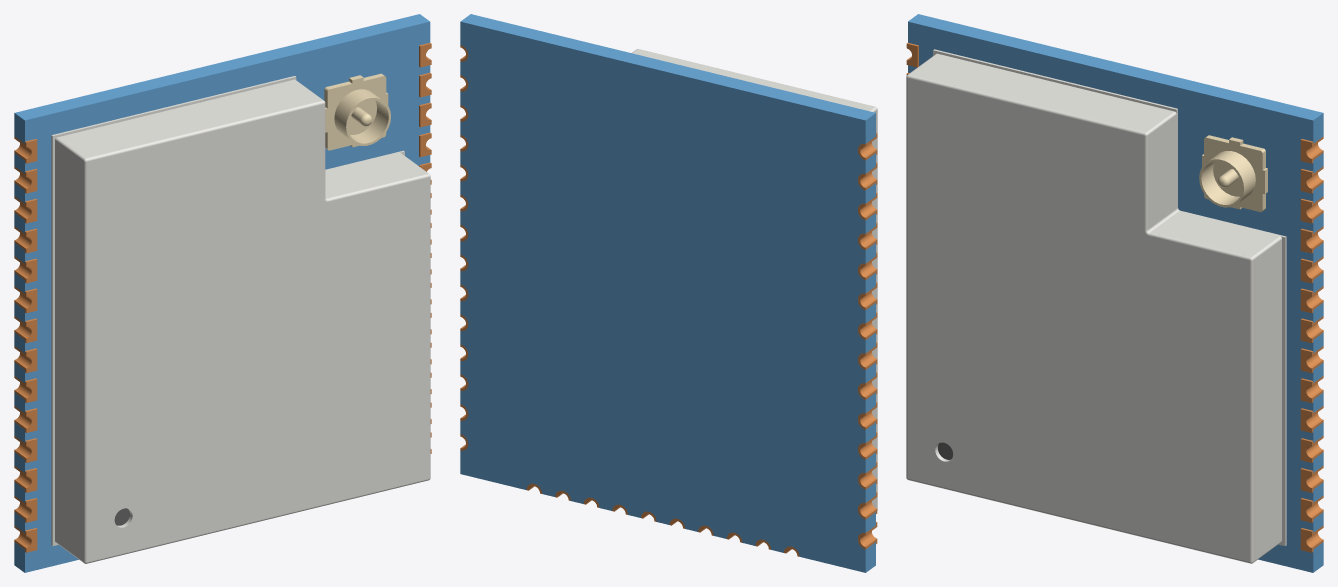
The model's file is ESP32-WROOM-32U.glb.
3 views of the same model, side by side, from view 1: azimuth 30°, elevation 25°; view 2: azimuth 150°, elevation 25°; view 3: azimuth 330°, elevation 25° (orthographic).
Parts seen in each view (by area): view 1: Shape_IndexedFaceSet.590, Shape_IndexedFaceSet.005, Shape_IndexedFaceSet.593, Shape_IndexedFaceSet.591, Shape_IndexedFaceSet.012, Shape_IndexedFaceSet.389, Shape_IndexedFaceSet.391, Shape_IndexedFaceSet.753, Shape_IndexedFaceSet.007, Shape_IndexedFaceSet.755, Shape_IndexedFaceSet.171, Shape_IndexedFaceSet.196 (+3 smaller); view 2: Shape_IndexedFaceSet.199, Shape_IndexedFaceSet.012, Shape_IndexedFaceSet.591, Shape_IndexedFaceSet.593; view 3: Shape_IndexedFaceSet.590, Shape_IndexedFaceSet.005, Shape_IndexedFaceSet.594, Shape_IndexedFaceSet.591, Shape_IndexedFaceSet.012, Shape_IndexedFaceSet.389, Shape_IndexedFaceSet.388, Shape_IndexedFaceSet.391, Shape_IndexedFaceSet.007, Shape_IndexedFaceSet.756, Shape_IndexedFaceSet.755, Shape_IndexedFaceSet.753 (+4 smaller).
Part boxes in pixels (x1=…): Shape_IndexedFaceSet.590: x1=87, y1=104, x2=429, y2=562; Shape_IndexedFaceSet.005: x1=25, y1=21, x2=430, y2=572; Shape_IndexedFaceSet.593: x1=55, y1=140, x2=83, y2=561; Shape_IndexedFaceSet.591: x1=57, y1=79, x2=322, y2=158; Shape_IndexedFaceSet.012: x1=15, y1=14, x2=429, y2=120; Shape_IndexedFaceSet.389: x1=325, y1=153, x2=427, y2=198; Shape_IndexedFaceSet.391: x1=52, y1=77, x2=404, y2=545; Shape_IndexedFaceSet.753: x1=83, y1=161, x2=86, y2=562; Shape_IndexedFaceSet.007: x1=327, y1=76, x2=386, y2=150; Shape_IndexedFaceSet.755: x1=86, y1=100, x2=323, y2=161; Shape_IndexedFaceSet.171: x1=51, y1=135, x2=52, y2=545; Shape_IndexedFaceSet.196: x1=334, y1=89, x2=380, y2=140; Shape_IndexedFaceSet.199: x1=460, y1=21, x2=865, y2=572; Shape_IndexedFaceSet.012: x1=461, y1=14, x2=875, y2=120; Shape_IndexedFaceSet.591: x1=632, y1=49, x2=874, y2=110; Shape_IndexedFaceSet.593: x1=872, y1=110, x2=877, y2=508; Shape_IndexedFaceSet.590: x1=907, y1=78, x2=1249, y2=561; Shape_IndexedFaceSet.005: x1=908, y1=21, x2=1313, y2=572; Shape_IndexedFaceSet.594: x1=1253, y1=239, x2=1281, y2=561; Shape_IndexedFaceSet.591: x1=909, y1=53, x2=1173, y2=132; Shape_IndexedFaceSet.012: x1=908, y1=14, x2=1322, y2=120; Shape_IndexedFaceSet.389: x1=1150, y1=211, x2=1279, y2=256; Shape_IndexedFaceSet.388: x1=1148, y1=115, x2=1176, y2=229; Shape_IndexedFaceSet.391: x1=933, y1=50, x2=1285, y2=545; Shape_IndexedFaceSet.007: x1=1204, y1=137, x2=1262, y2=211; Shape_IndexedFaceSet.756: x1=1250, y1=260, x2=1253, y2=562; Shape_IndexedFaceSet.755: x1=907, y1=74, x2=1145, y2=135; Shape_IndexedFaceSet.753: x1=906, y1=77, x2=907, y2=478.
Size of the model in its own units: 7.09 by 7.56 by 1.26.
